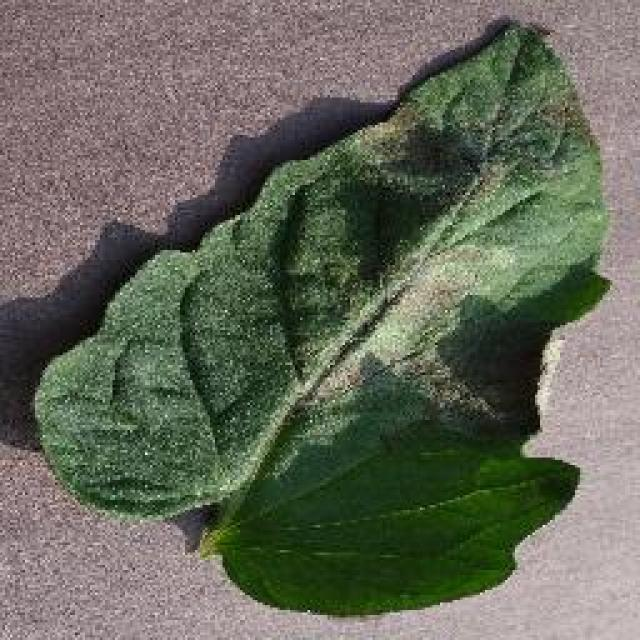Tomato Late Blight: (138, 103, 595, 407)
